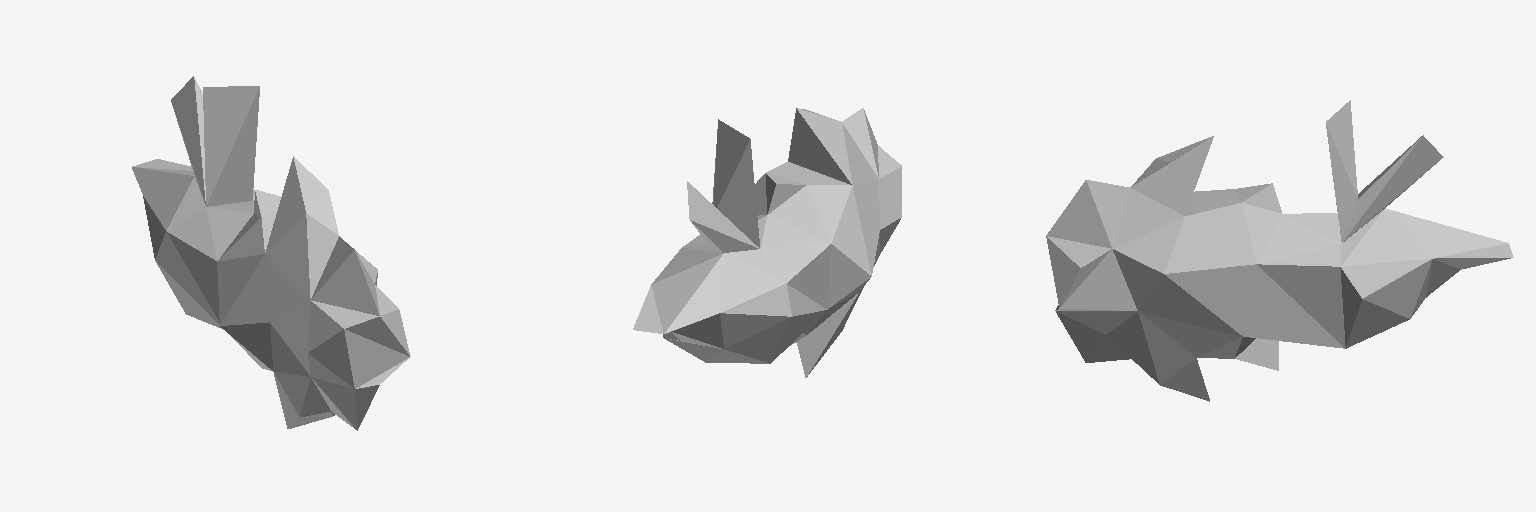
3 renders of one model, left to right at view 1: azimuth 30°, elevation 25°; view 2: azimuth 150°, elevation 25°; view 3: azimuth 270°, elevation 25°, orthographic.
Visible parts, largest first — view 1: ai_model; view 2: ai_model; view 3: ai_model.
Part boxes in pixels (bbox=[...]): ai_model: bbox=[132, 76, 410, 430]; ai_model: bbox=[633, 108, 901, 377]; ai_model: bbox=[1046, 100, 1513, 401].
Bounding box in the file's own units: 0.3431 × 0.6901 × 0.9921.